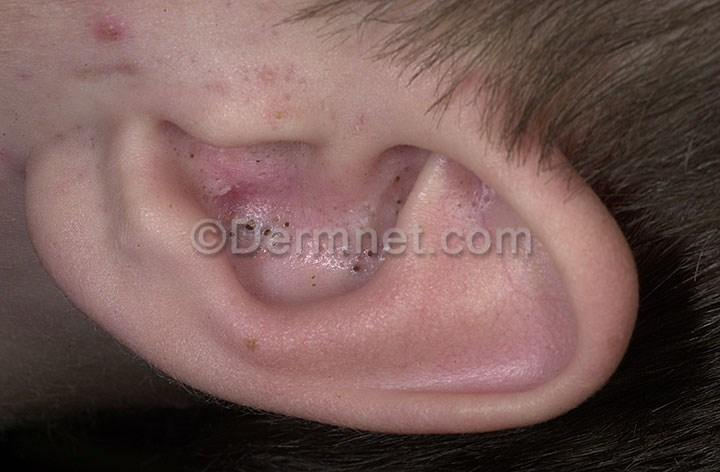Acne: (314, 224, 381, 276), (84, 1, 131, 44), (212, 166, 250, 206), (236, 214, 265, 243), (275, 210, 298, 236), (390, 199, 412, 224), (388, 165, 406, 189)
